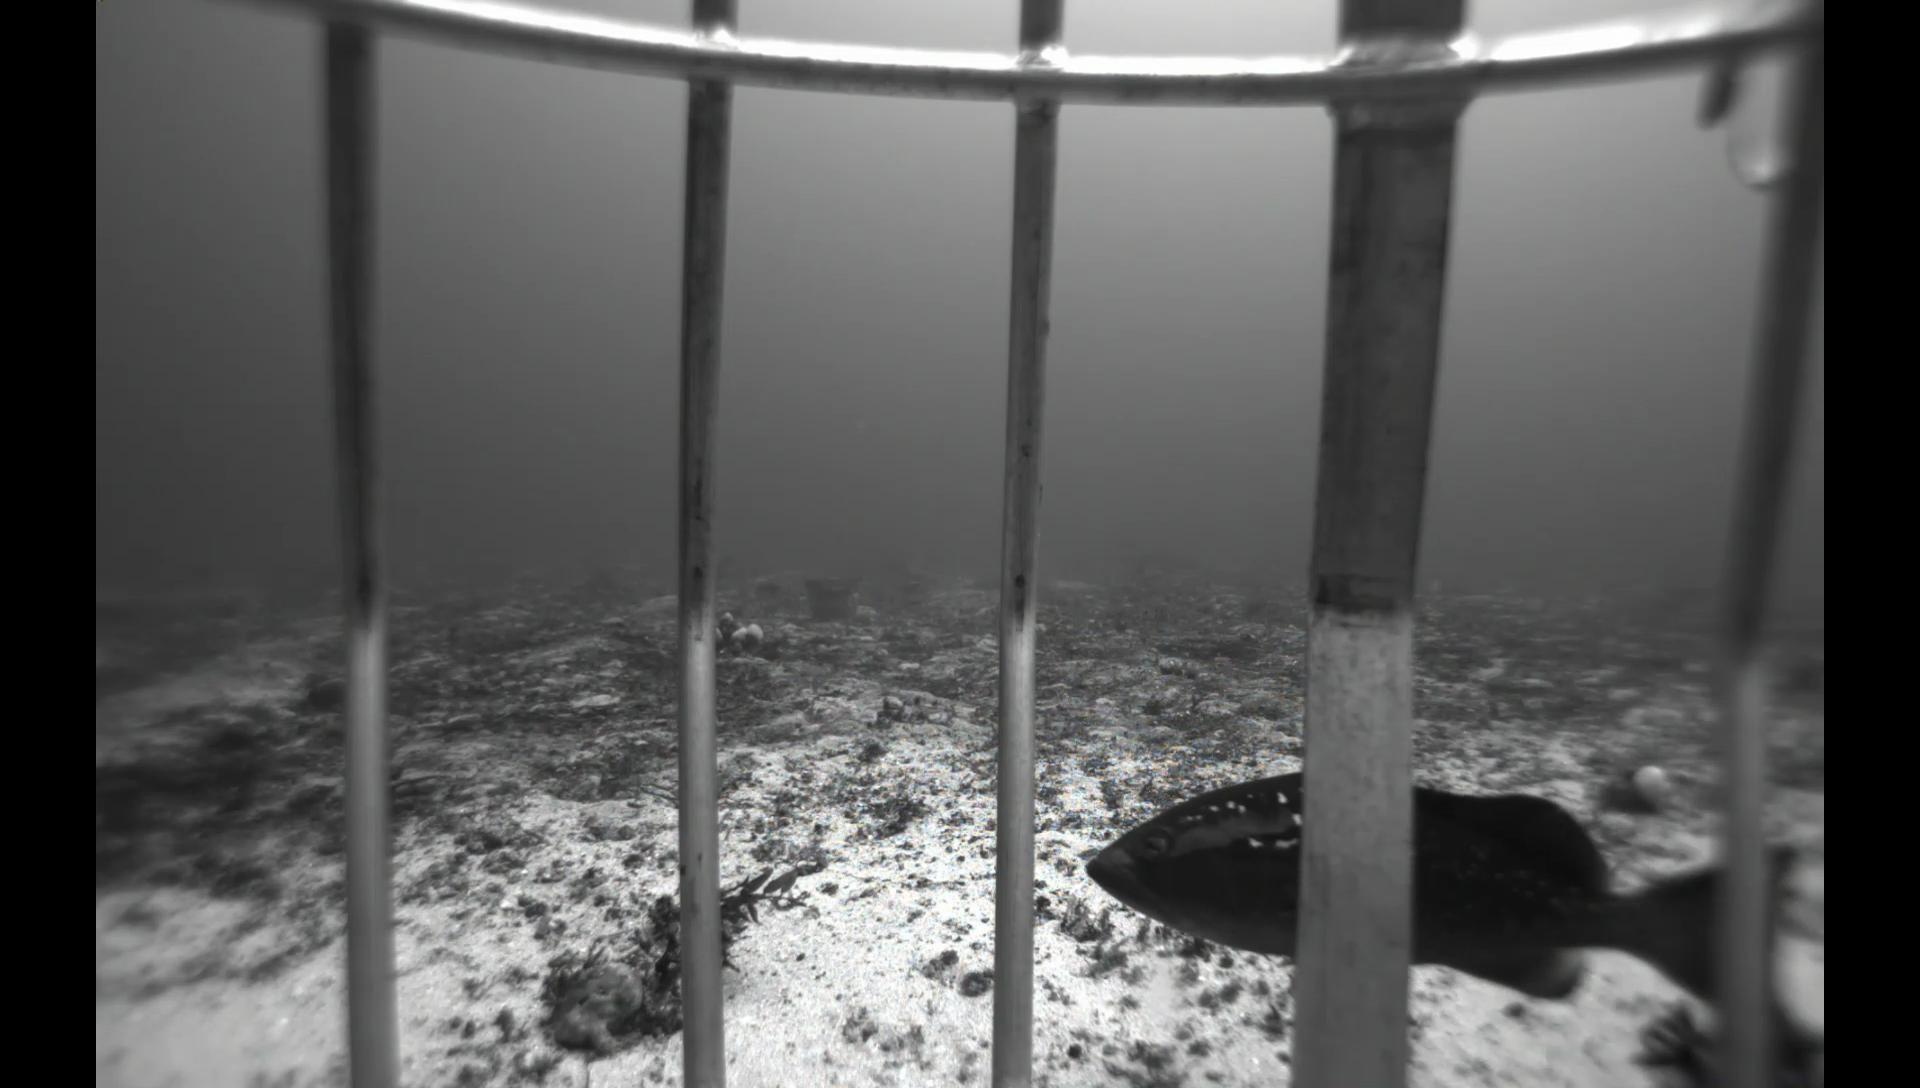CHAETODONOCELLATUS-170260307: (1516, 589, 1556, 619), (1422, 576, 1448, 599)
EPINEPHELUSMORIO-170021211: (1076, 762, 1801, 1041)
PRISTIGENYSALTA-170050401: (297, 675, 347, 717)
